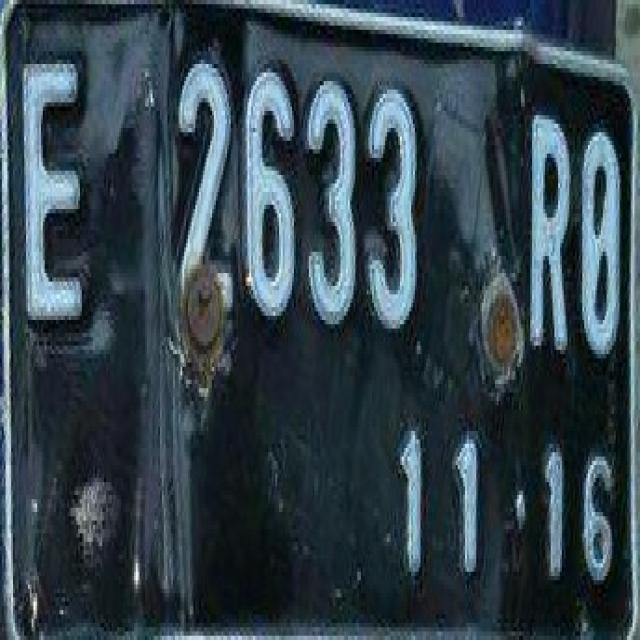plate: (0, 0, 633, 636)
